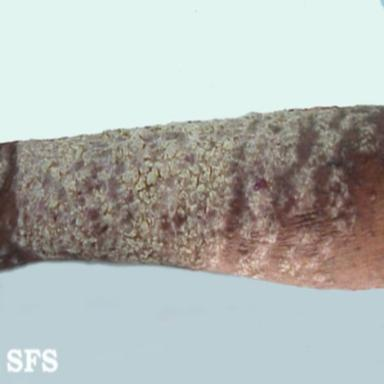Darier_s-Disease: (0, 106, 384, 293)
